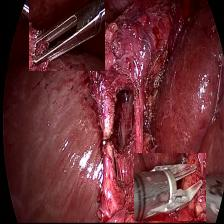Clipper: (134, 153, 206, 221)
Grasper: (29, 0, 106, 71)
